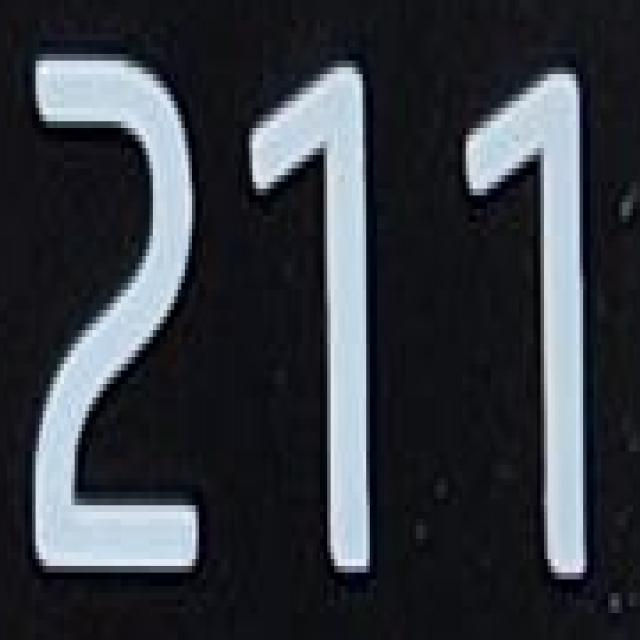character: (29, 48, 210, 586), (459, 61, 594, 595), (245, 52, 378, 591)
